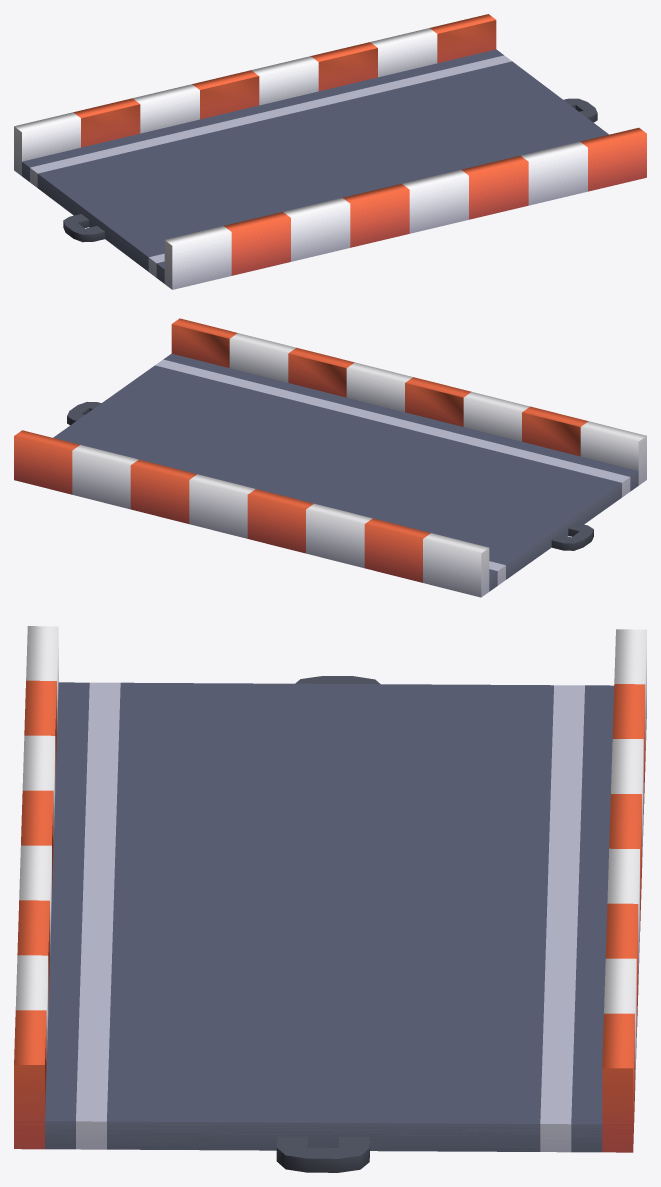
Rendered from track-road-wide-straight.044_lev2.glb.
The picture shows the model from 3 angles, top to bottom: view 1: azimuth 30°, elevation 25°; view 2: azimuth 150°, elevation 25°; view 3: azimuth 270°, elevation 25°; orthographic projection. The views are drawn at different scales.
Parts seen in each view (by area): view 1: track-road-wide-straight.044_lev2; view 2: track-road-wide-straight.044_lev2; view 3: track-road-wide-straight.044_lev2.
Part boxes in pixels (box(x1,y1,x2,y2)): track-road-wide-straight.044_lev2: box(14, 14, 646, 289); track-road-wide-straight.044_lev2: box(14, 318, 646, 597); track-road-wide-straight.044_lev2: box(14, 626, 646, 1172).
Size of the model in its own units: 3.69 by 0.3 by 2.04.
1 material, 1 textured.
